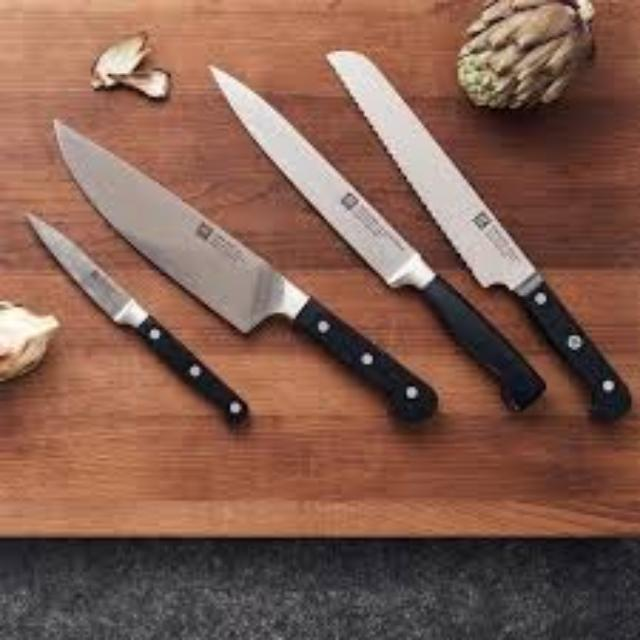knife: (204, 60, 546, 412), (52, 117, 438, 421), (324, 46, 632, 418), (23, 208, 247, 424)
